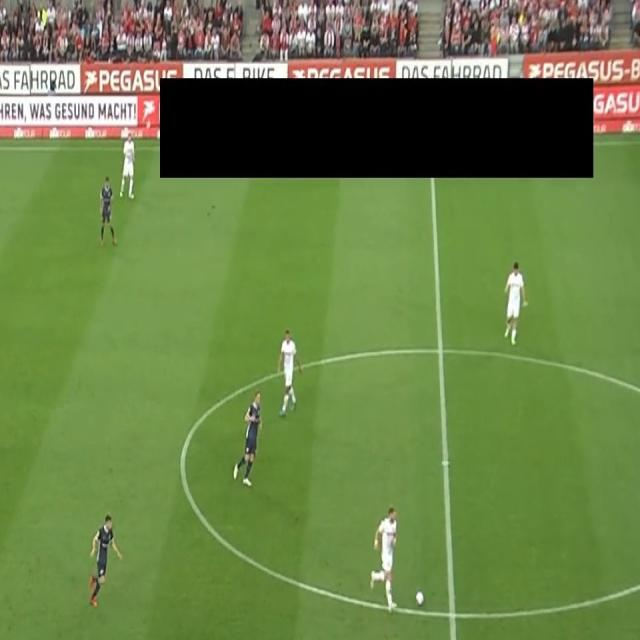ball: (416, 590, 424, 606)
